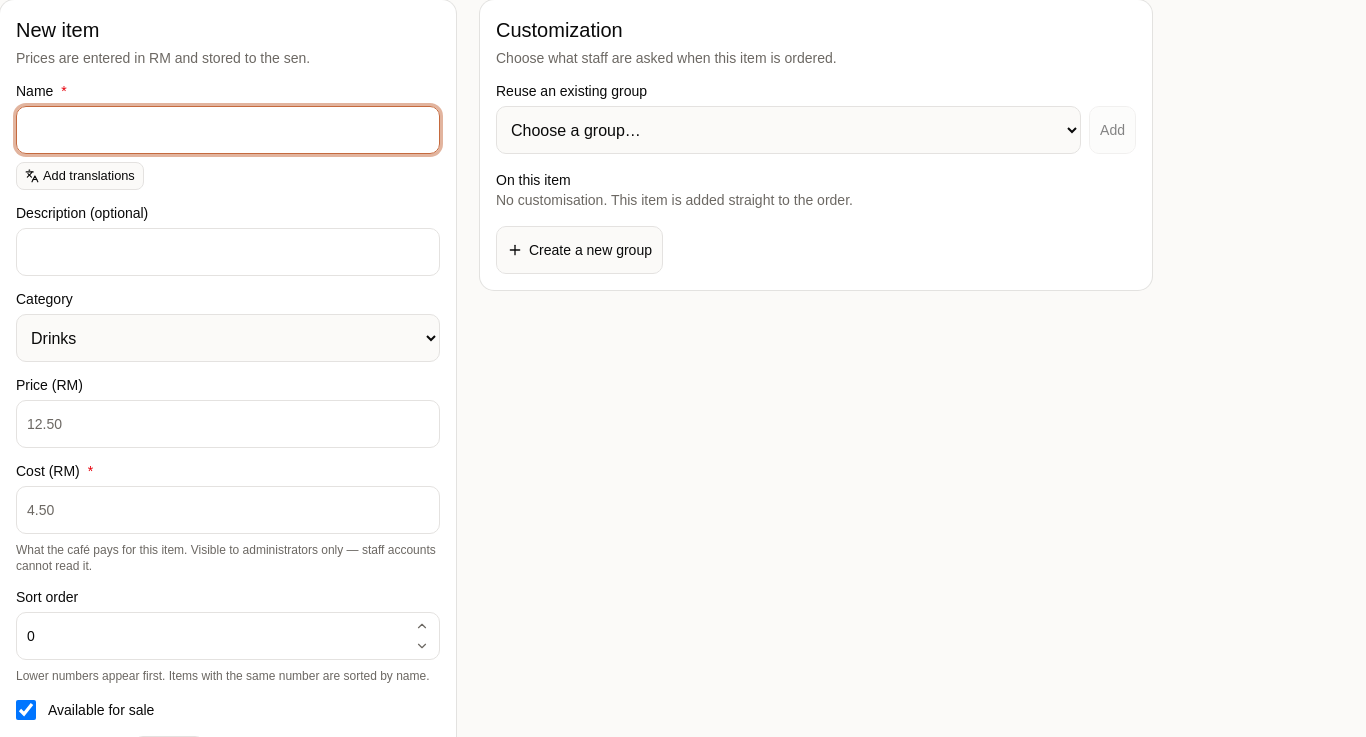
creating an item together with its customisation › tells the three states apart on screen
The image size is (1366, 737).
Select "Sugar Level" in the dropdown with test id "reuse-group-select" at x=789, y=130, box [496,106,1081,154]
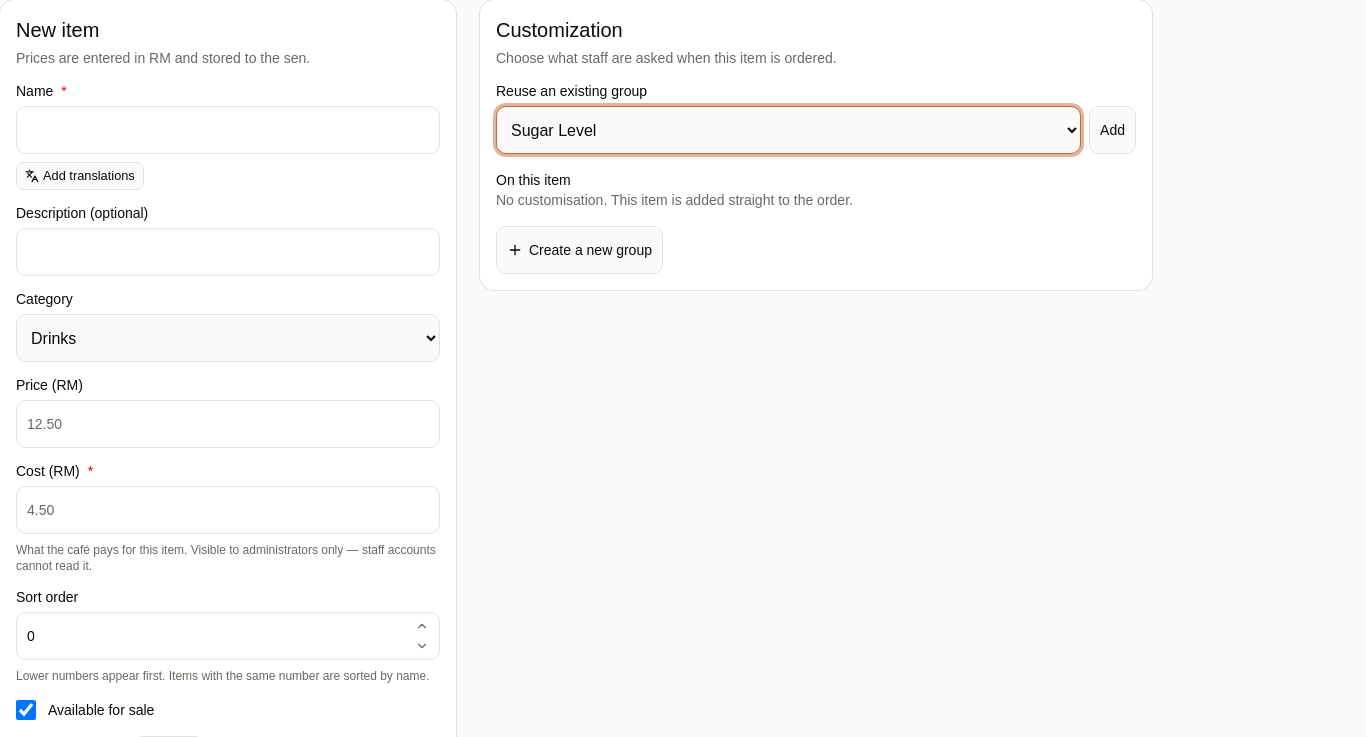
Click the button with test id "reuse-group-add" at x=1113, y=130, box [1089,106,1136,154]
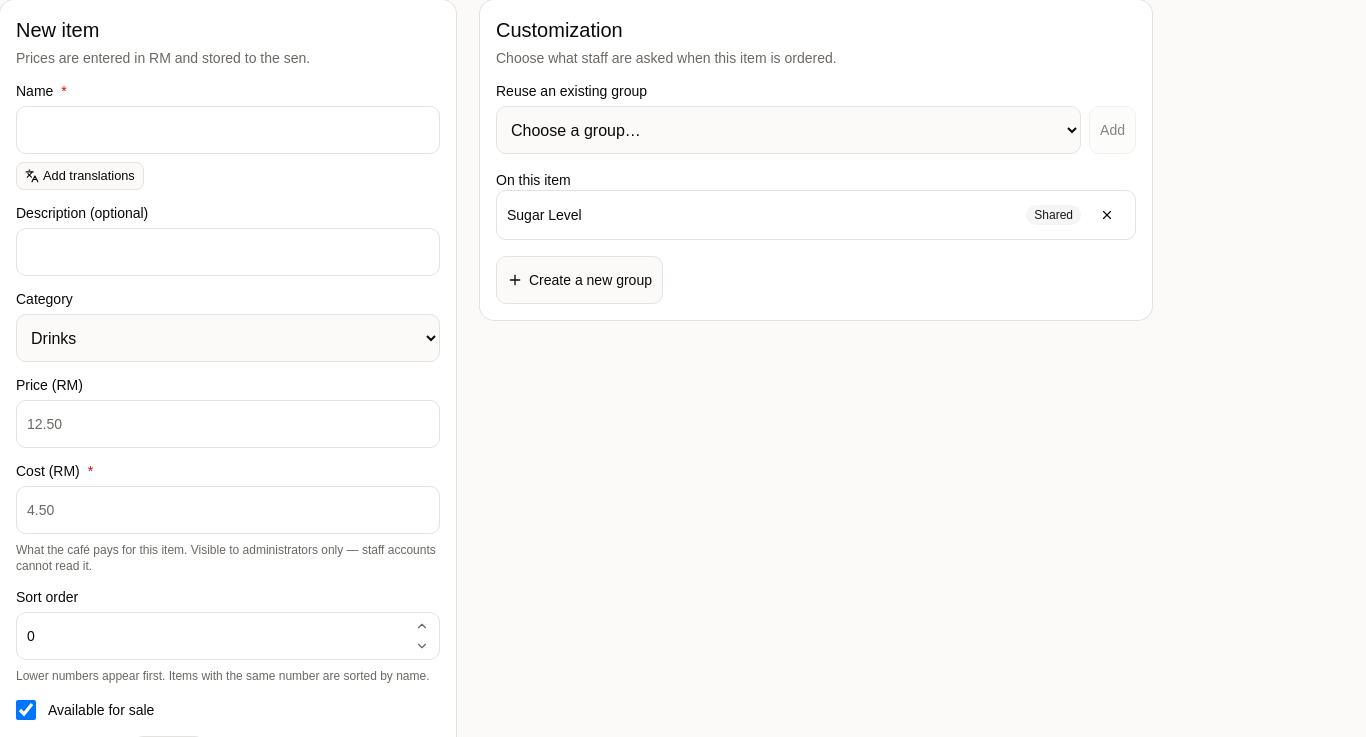
Click the button with test id "create-new-group" at x=580, y=280, box [496,256,663,304]
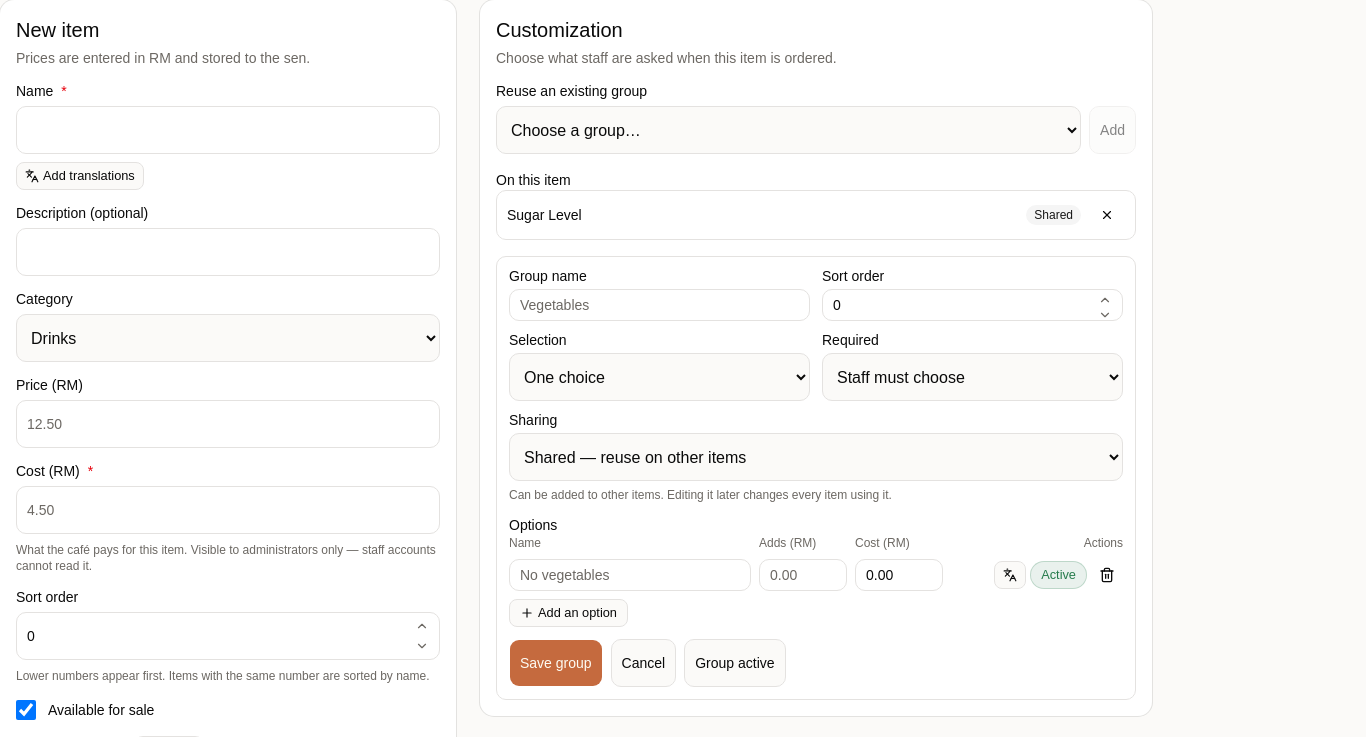
Type "Toppings" into the field labelled "Group name" at x=660, y=305, box [509,289,810,321]
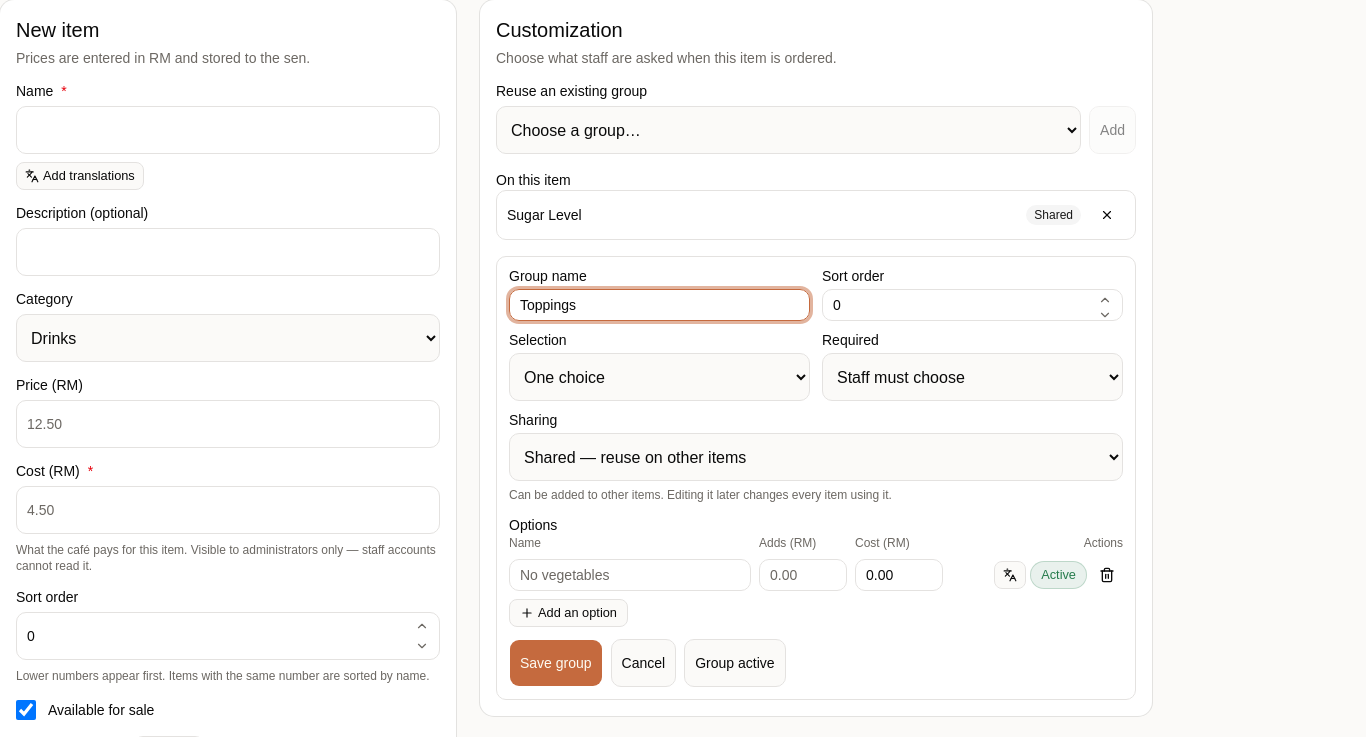
Type "Pearl" into the field named "Name" at x=630, y=575, box [509,559,751,591]
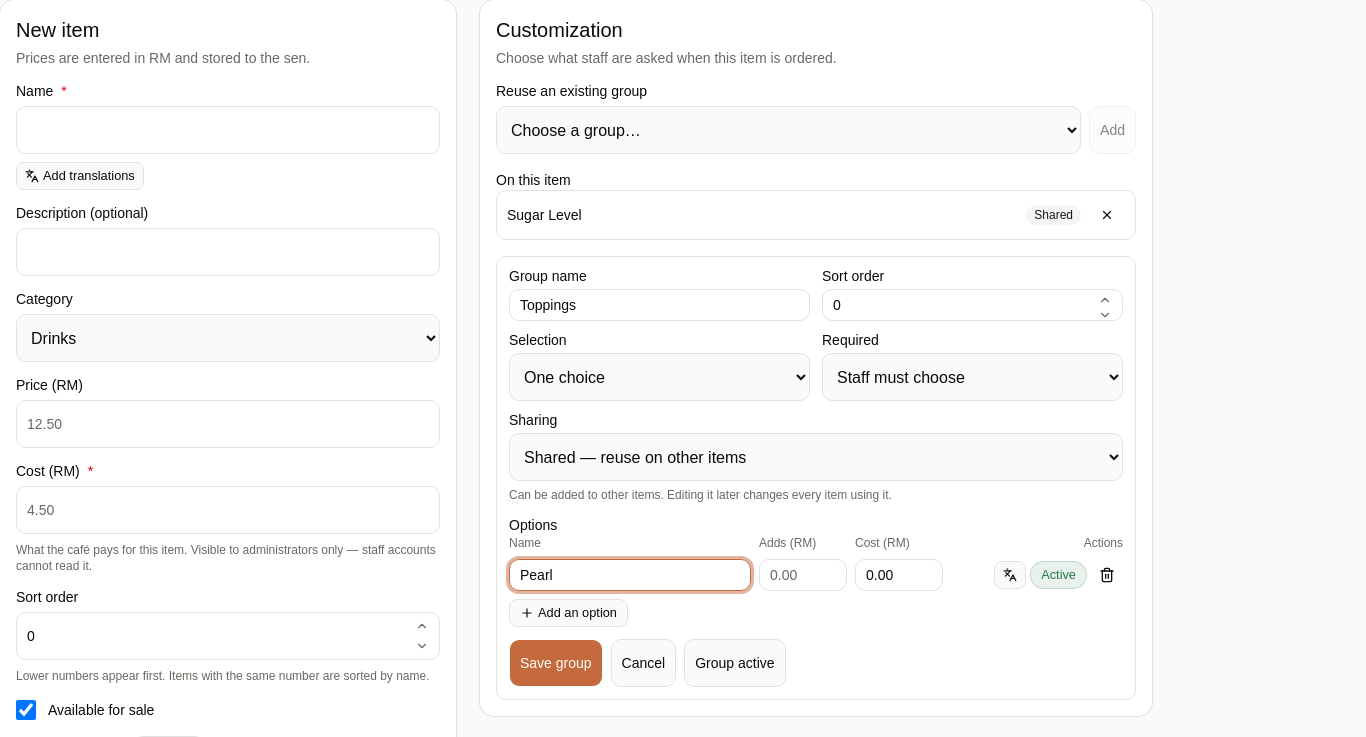
Click the button with test id "modifier-save-group" at x=556, y=663, box [509,639,603,687]
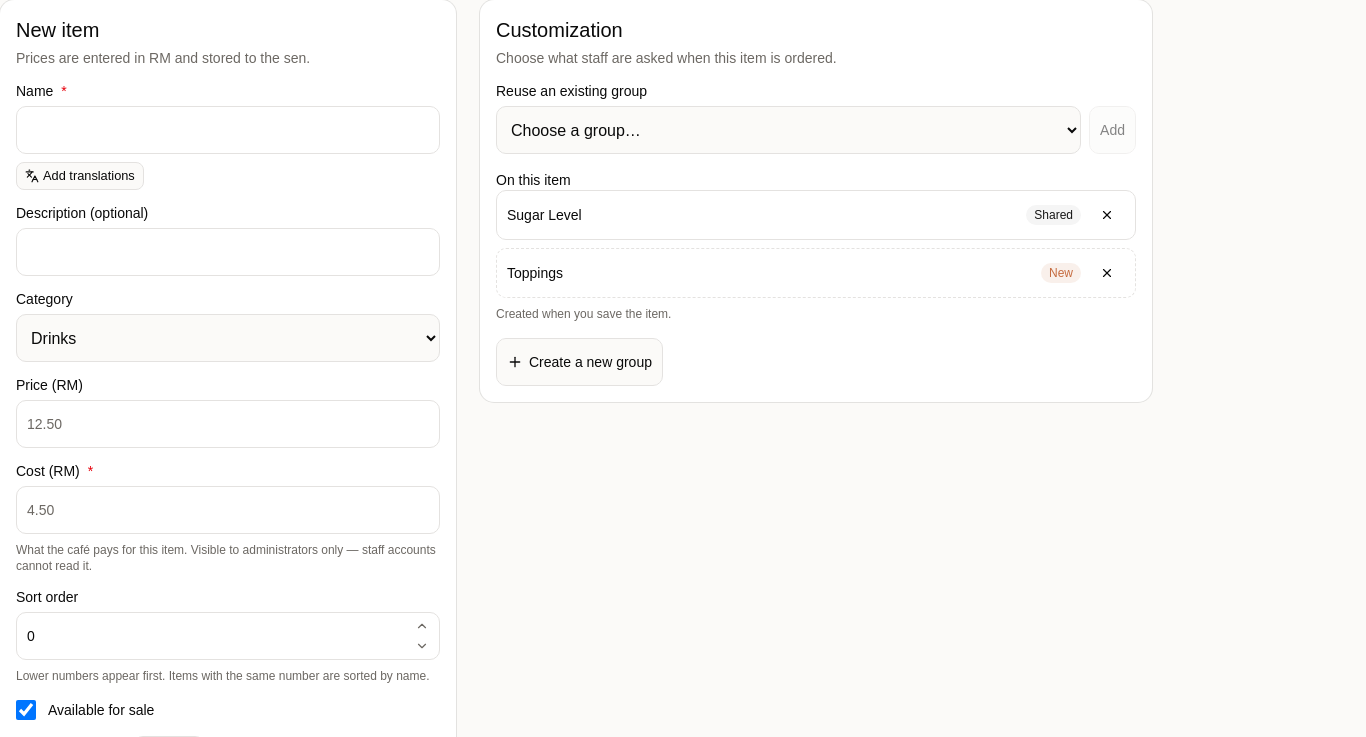
Check: the text "Sugar Level" is shown, box [507,207,582,223]
Check: the text "Shared" is shown, box [1026,205,1081,225]
Check: the text "Toppings" is shown, box [507,265,563,281]
